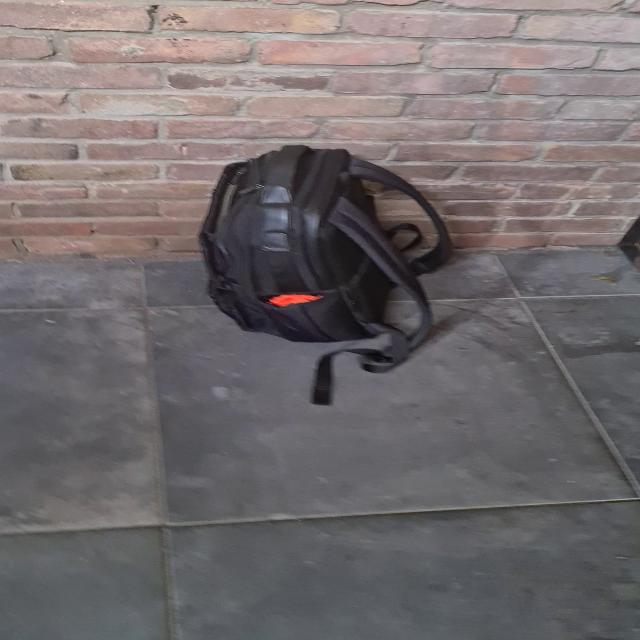backpack: (189, 136, 448, 370)
